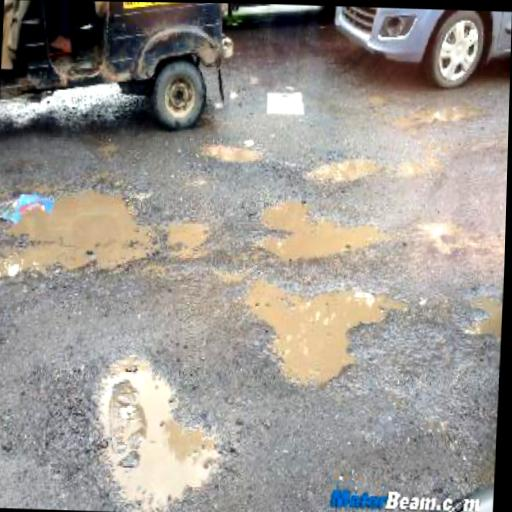pothole: (79, 340, 231, 512), (235, 268, 392, 394), (0, 170, 162, 288), (251, 192, 392, 263), (307, 147, 383, 185), (160, 211, 215, 259), (458, 287, 502, 343), (199, 137, 266, 166)
